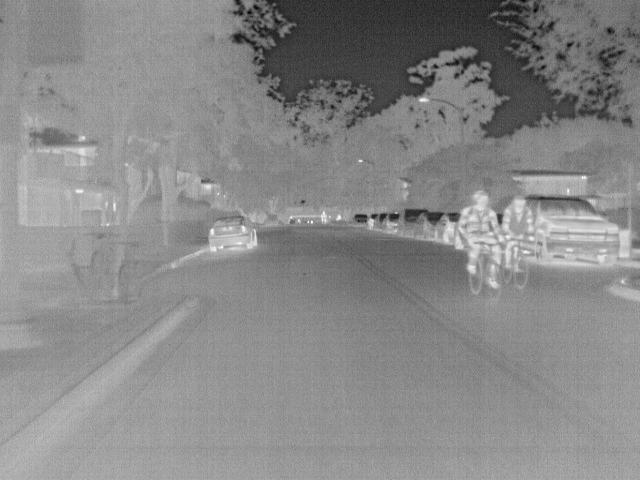car: (527, 192, 621, 269), (206, 212, 258, 252), (396, 206, 426, 239), (415, 212, 443, 239), (436, 212, 454, 244), (380, 212, 402, 234), (351, 210, 373, 228)
person: (456, 188, 499, 282), (498, 196, 533, 273), (318, 209, 330, 226)
